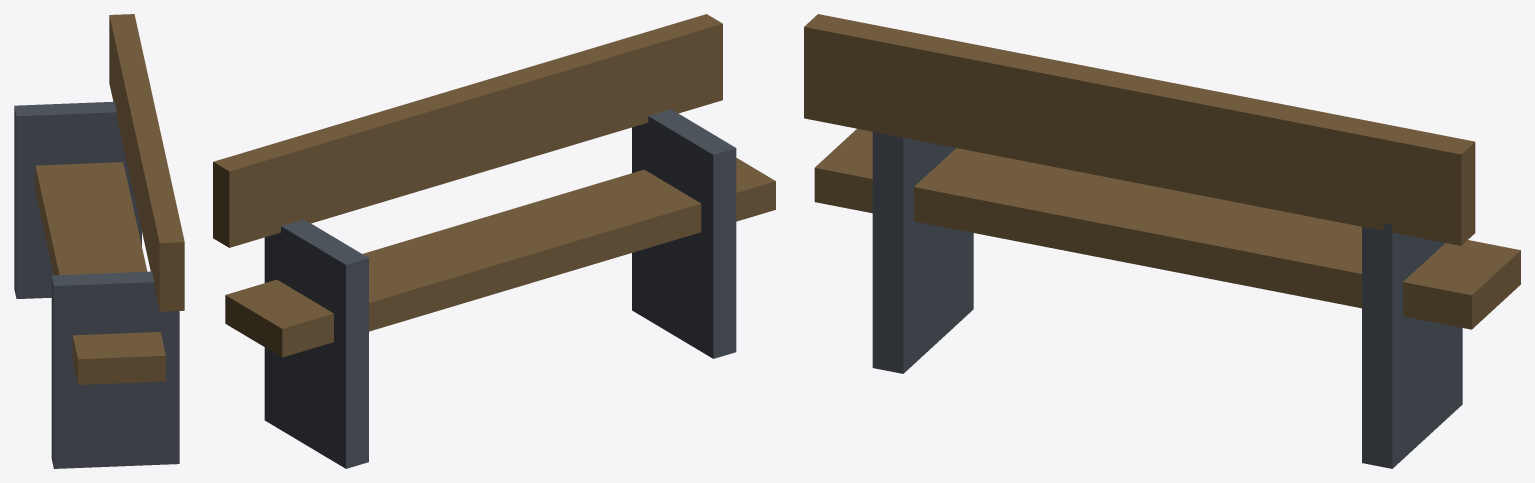
File: cell-180_540.glb
3 views of the same model, side by side, from view 1: azimuth 30°, elevation 25°; view 2: azimuth 150°, elevation 25°; view 3: azimuth 270°, elevation 25° (orthographic). The views are drawn at different scales.
Visible parts, largest first — view 1: cell-180_540; view 2: cell-180_540; view 3: cell-180_540.
Part boxes in pixels (box(x1,y1,x2,y2)): cell-180_540: box(14, 14, 184, 468); cell-180_540: box(213, 14, 775, 468); cell-180_540: box(804, 14, 1520, 468).
Bounding box in the file's own units: 0.5136 × 0.43 × 0.8524.
